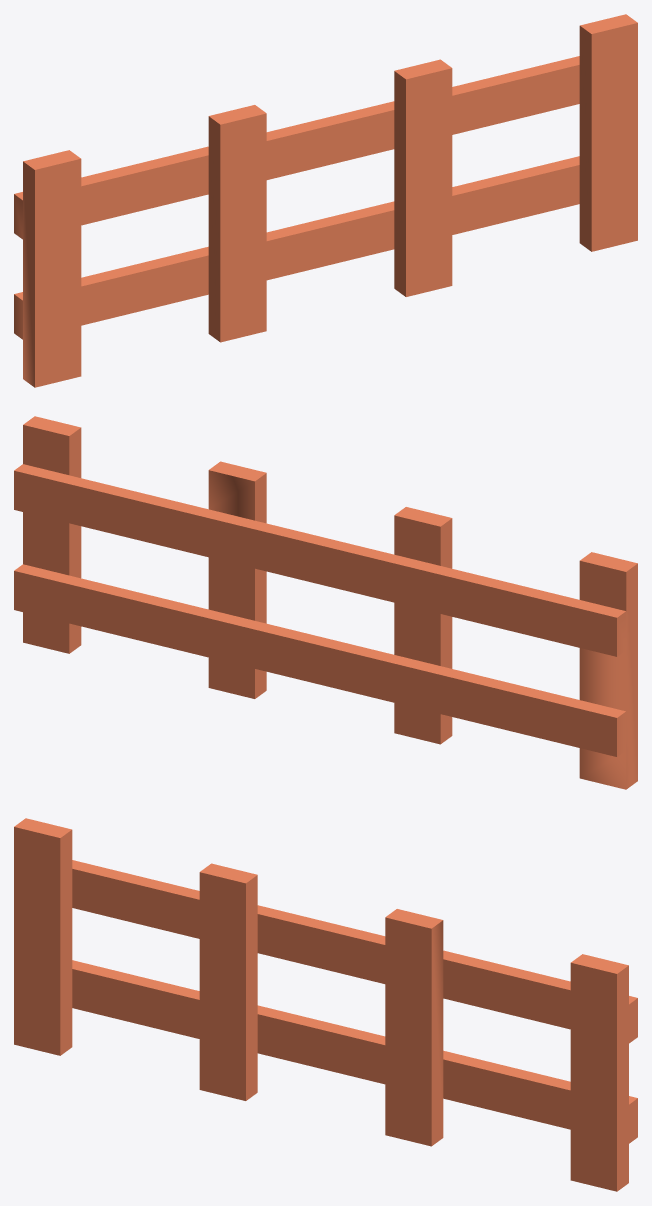
The model's file is fence-planks-double.glb.
3 renders of one model, top to bottom at view 1: azimuth 30°, elevation 25°; view 2: azimuth 150°, elevation 25°; view 3: azimuth 330°, elevation 25°, orthographic.
Visible parts, largest first — view 1: fence_planksDouble; view 2: fence_planksDouble; view 3: fence_planksDouble.
Boxes of the visible parts, x1=… form: fence_planksDouble: x1=14, y1=14, x2=637, y2=387; fence_planksDouble: x1=14, y1=416, x2=637, y2=789; fence_planksDouble: x1=14, y1=818, x2=637, y2=1191.
Bounding box in the file's own units: 1 × 0.345 × 0.0599.
